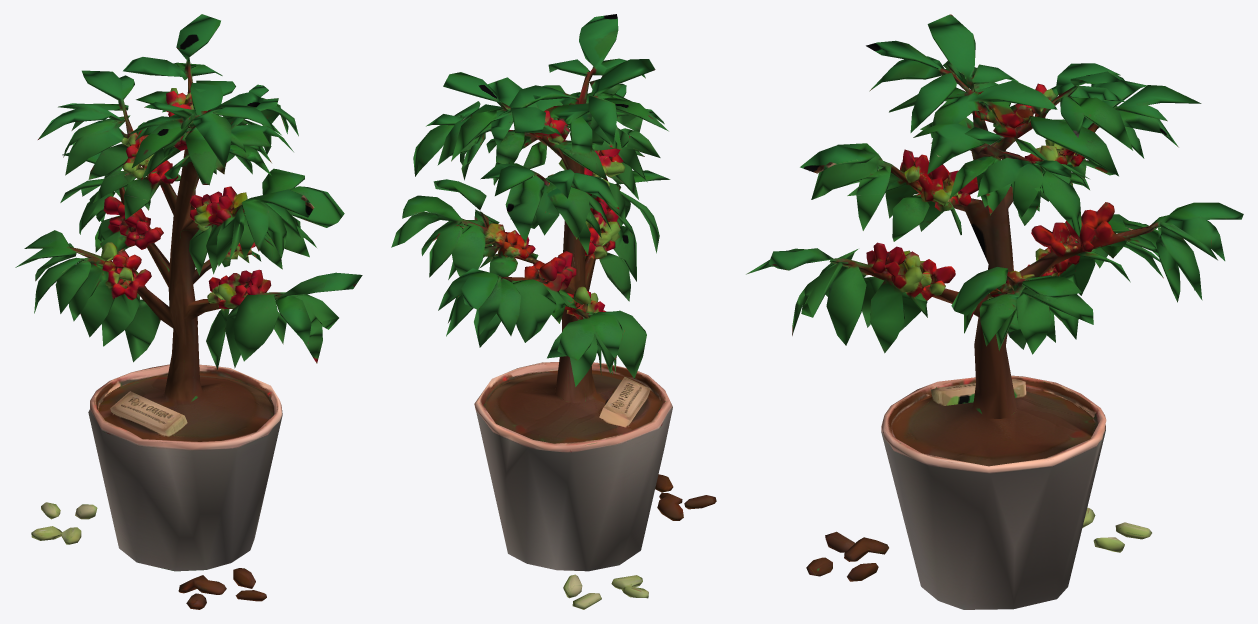
The model's file is coffee_fruit.glb.
The picture shows the model from 3 angles, left to right: view 1: azimuth 30°, elevation 25°; view 2: azimuth 150°, elevation 25°; view 3: azimuth 270°, elevation 25°; orthographic projection. The views are drawn at different scales.
Parts seen in each view (by area): view 1: Mesh1.0; view 2: Mesh1.0; view 3: Mesh1.0.
Boxes of the visible parts, left/top/right/bottom form: Mesh1.0: left=15, top=14, right=362, bottom=609; Mesh1.0: left=391, top=14, right=716, bottom=609; Mesh1.0: left=746, top=14, right=1243, bottom=609.
Bounding box in the file's own units: 1.8 × 3.13 × 2.6.
Materials: 1 (1 with a texture image).
